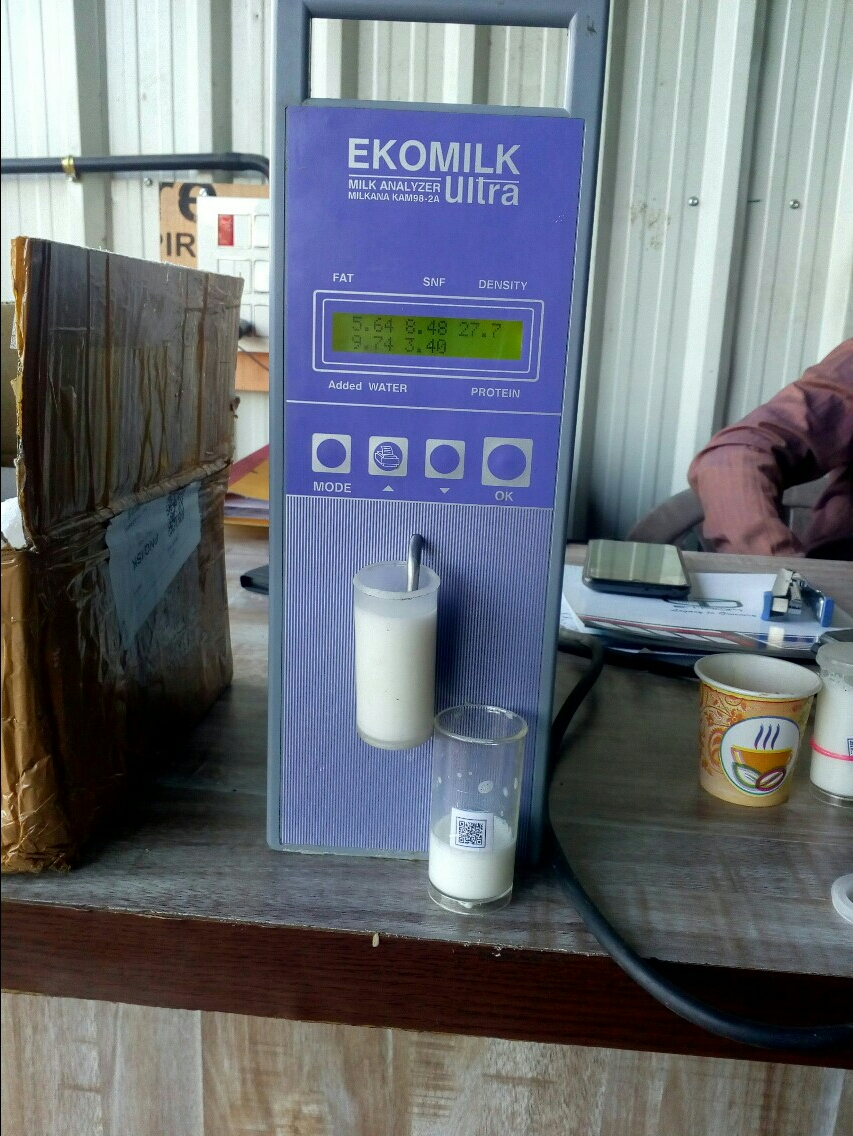lcd: (313, 302, 548, 368)
qr: (444, 800, 499, 859)
